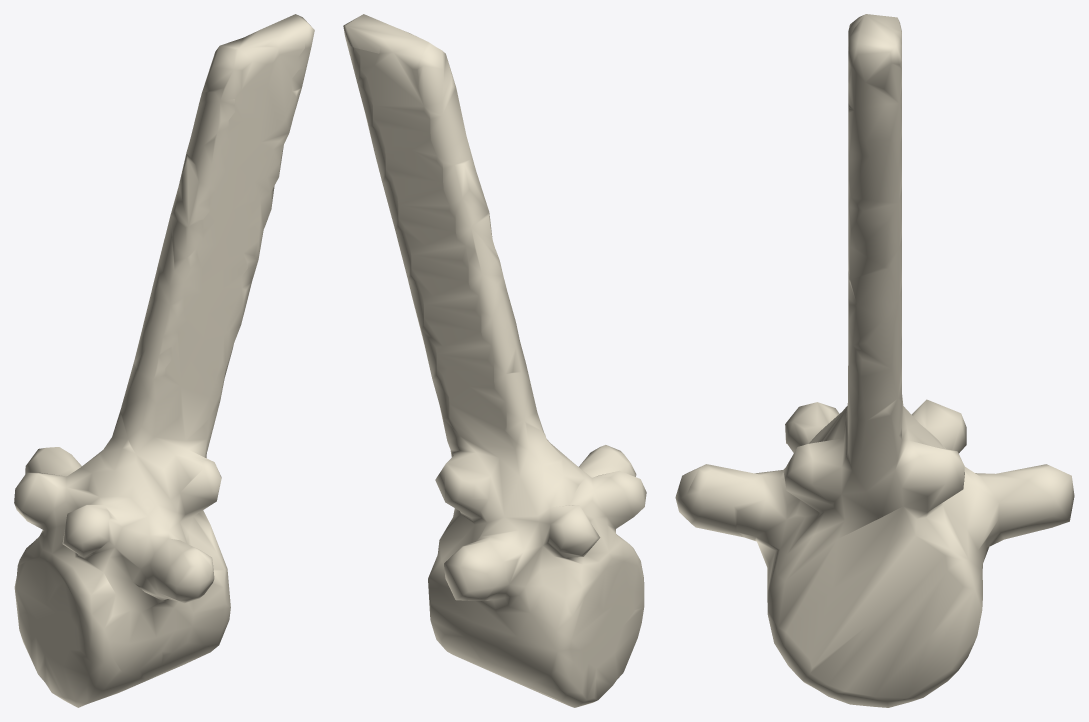
The model's file is thoracic_1.glb.
The picture shows the model from 3 angles, left to right: view 1: azimuth 30°, elevation 25°; view 2: azimuth 150°, elevation 25°; view 3: azimuth 270°, elevation 25°; orthographic projection. The views are drawn at different scales.
Parts seen in each view (by area): view 1: geometry_0; view 2: geometry_0; view 3: geometry_0.
Part boxes in pixels (left/top/right/bottom): geometry_0: left=14, top=14, right=314, bottom=707; geometry_0: left=343, top=14, right=646, bottom=707; geometry_0: left=675, top=14, right=1074, bottom=707.
Bounding box in the file's own units: 0.1707 × 0.375 × 0.178.
